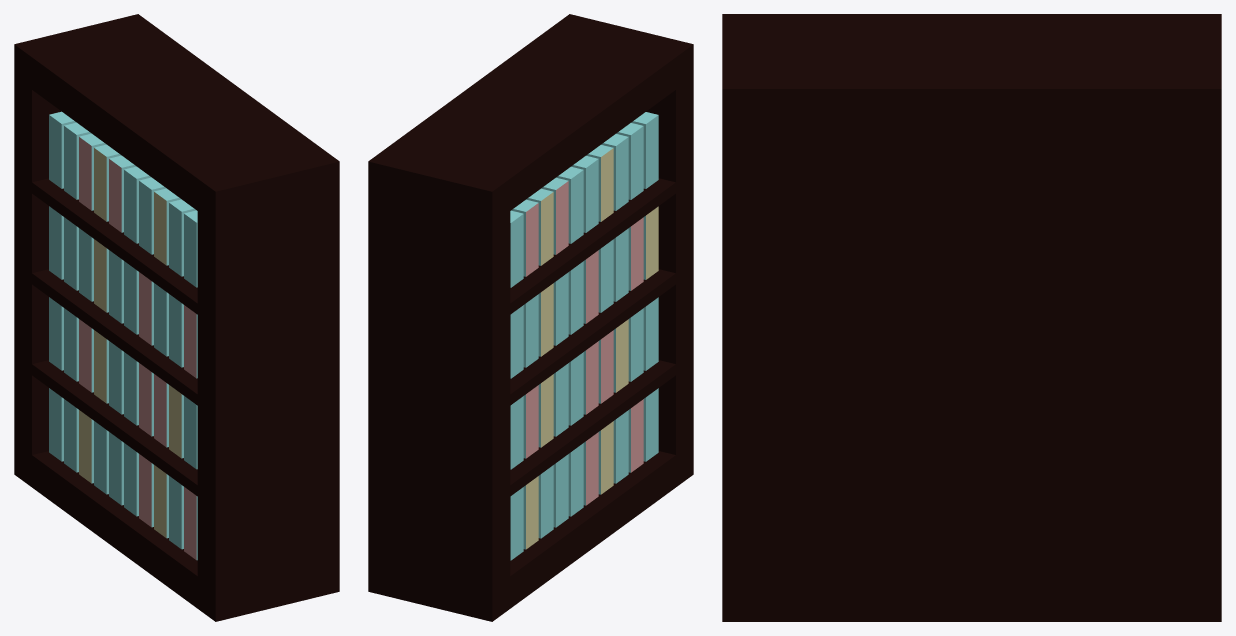
File: bookcase.fbx
3 renders of one model, left to right at view 1: azimuth 30°, elevation 25°; view 2: azimuth 150°, elevation 25°; view 3: azimuth 270°, elevation 25°, orthographic. The views are drawn at different scales.
Visible parts, largest first — view 1: Cube.001, Cube, Cube.000, Cube.003, Cube.002, Cube.006, Cube.007; view 2: Cube.001, Cube, Cube.000, Cube.003, Cube.007, Cube.006, Cube.002; view 3: Cube.001, Cube.000, Cube.003, Cube.007, Cube.006, Cube.002.
Boxes of the visible parts, bbox=[...] form: Cube.001: bbox=[14, 77, 339, 589]; Cube: bbox=[49, 111, 197, 560]; Cube.000: bbox=[14, 14, 339, 223]; Cube.003: bbox=[14, 442, 339, 621]; Cube.002: bbox=[14, 351, 339, 509]; Cube.006: bbox=[14, 261, 338, 418]; Cube.007: bbox=[14, 170, 339, 327]; Cube.001: bbox=[368, 77, 693, 589]; Cube: bbox=[510, 112, 658, 560]; Cube.000: bbox=[368, 14, 693, 223]; Cube.003: bbox=[368, 442, 693, 621]; Cube.007: bbox=[368, 169, 693, 327]; Cube.006: bbox=[368, 260, 693, 418]; Cube.002: bbox=[368, 351, 693, 509]; Cube.001: bbox=[722, 129, 1221, 581]; Cube.000: bbox=[722, 14, 1221, 129]; Cube.003: bbox=[722, 581, 1221, 621]; Cube.007: bbox=[723, 244, 1221, 257]; Cube.006: bbox=[848, 356, 1221, 370]; Cube.002: bbox=[1016, 469, 1221, 482].
Bounding box in the file's own units: 200 × 662 × 563.
